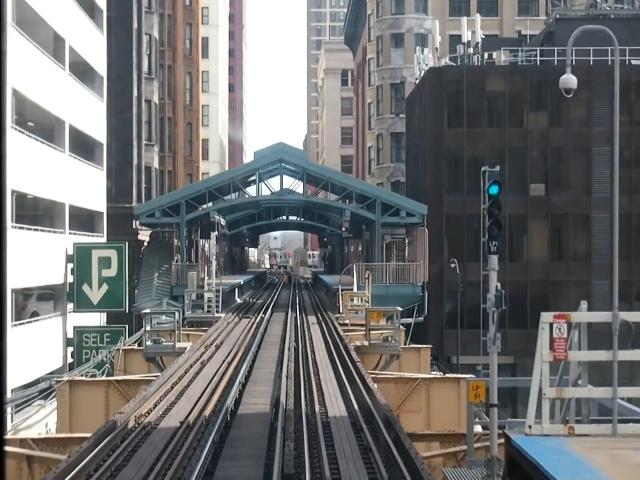signal light: (484, 171, 505, 255)
